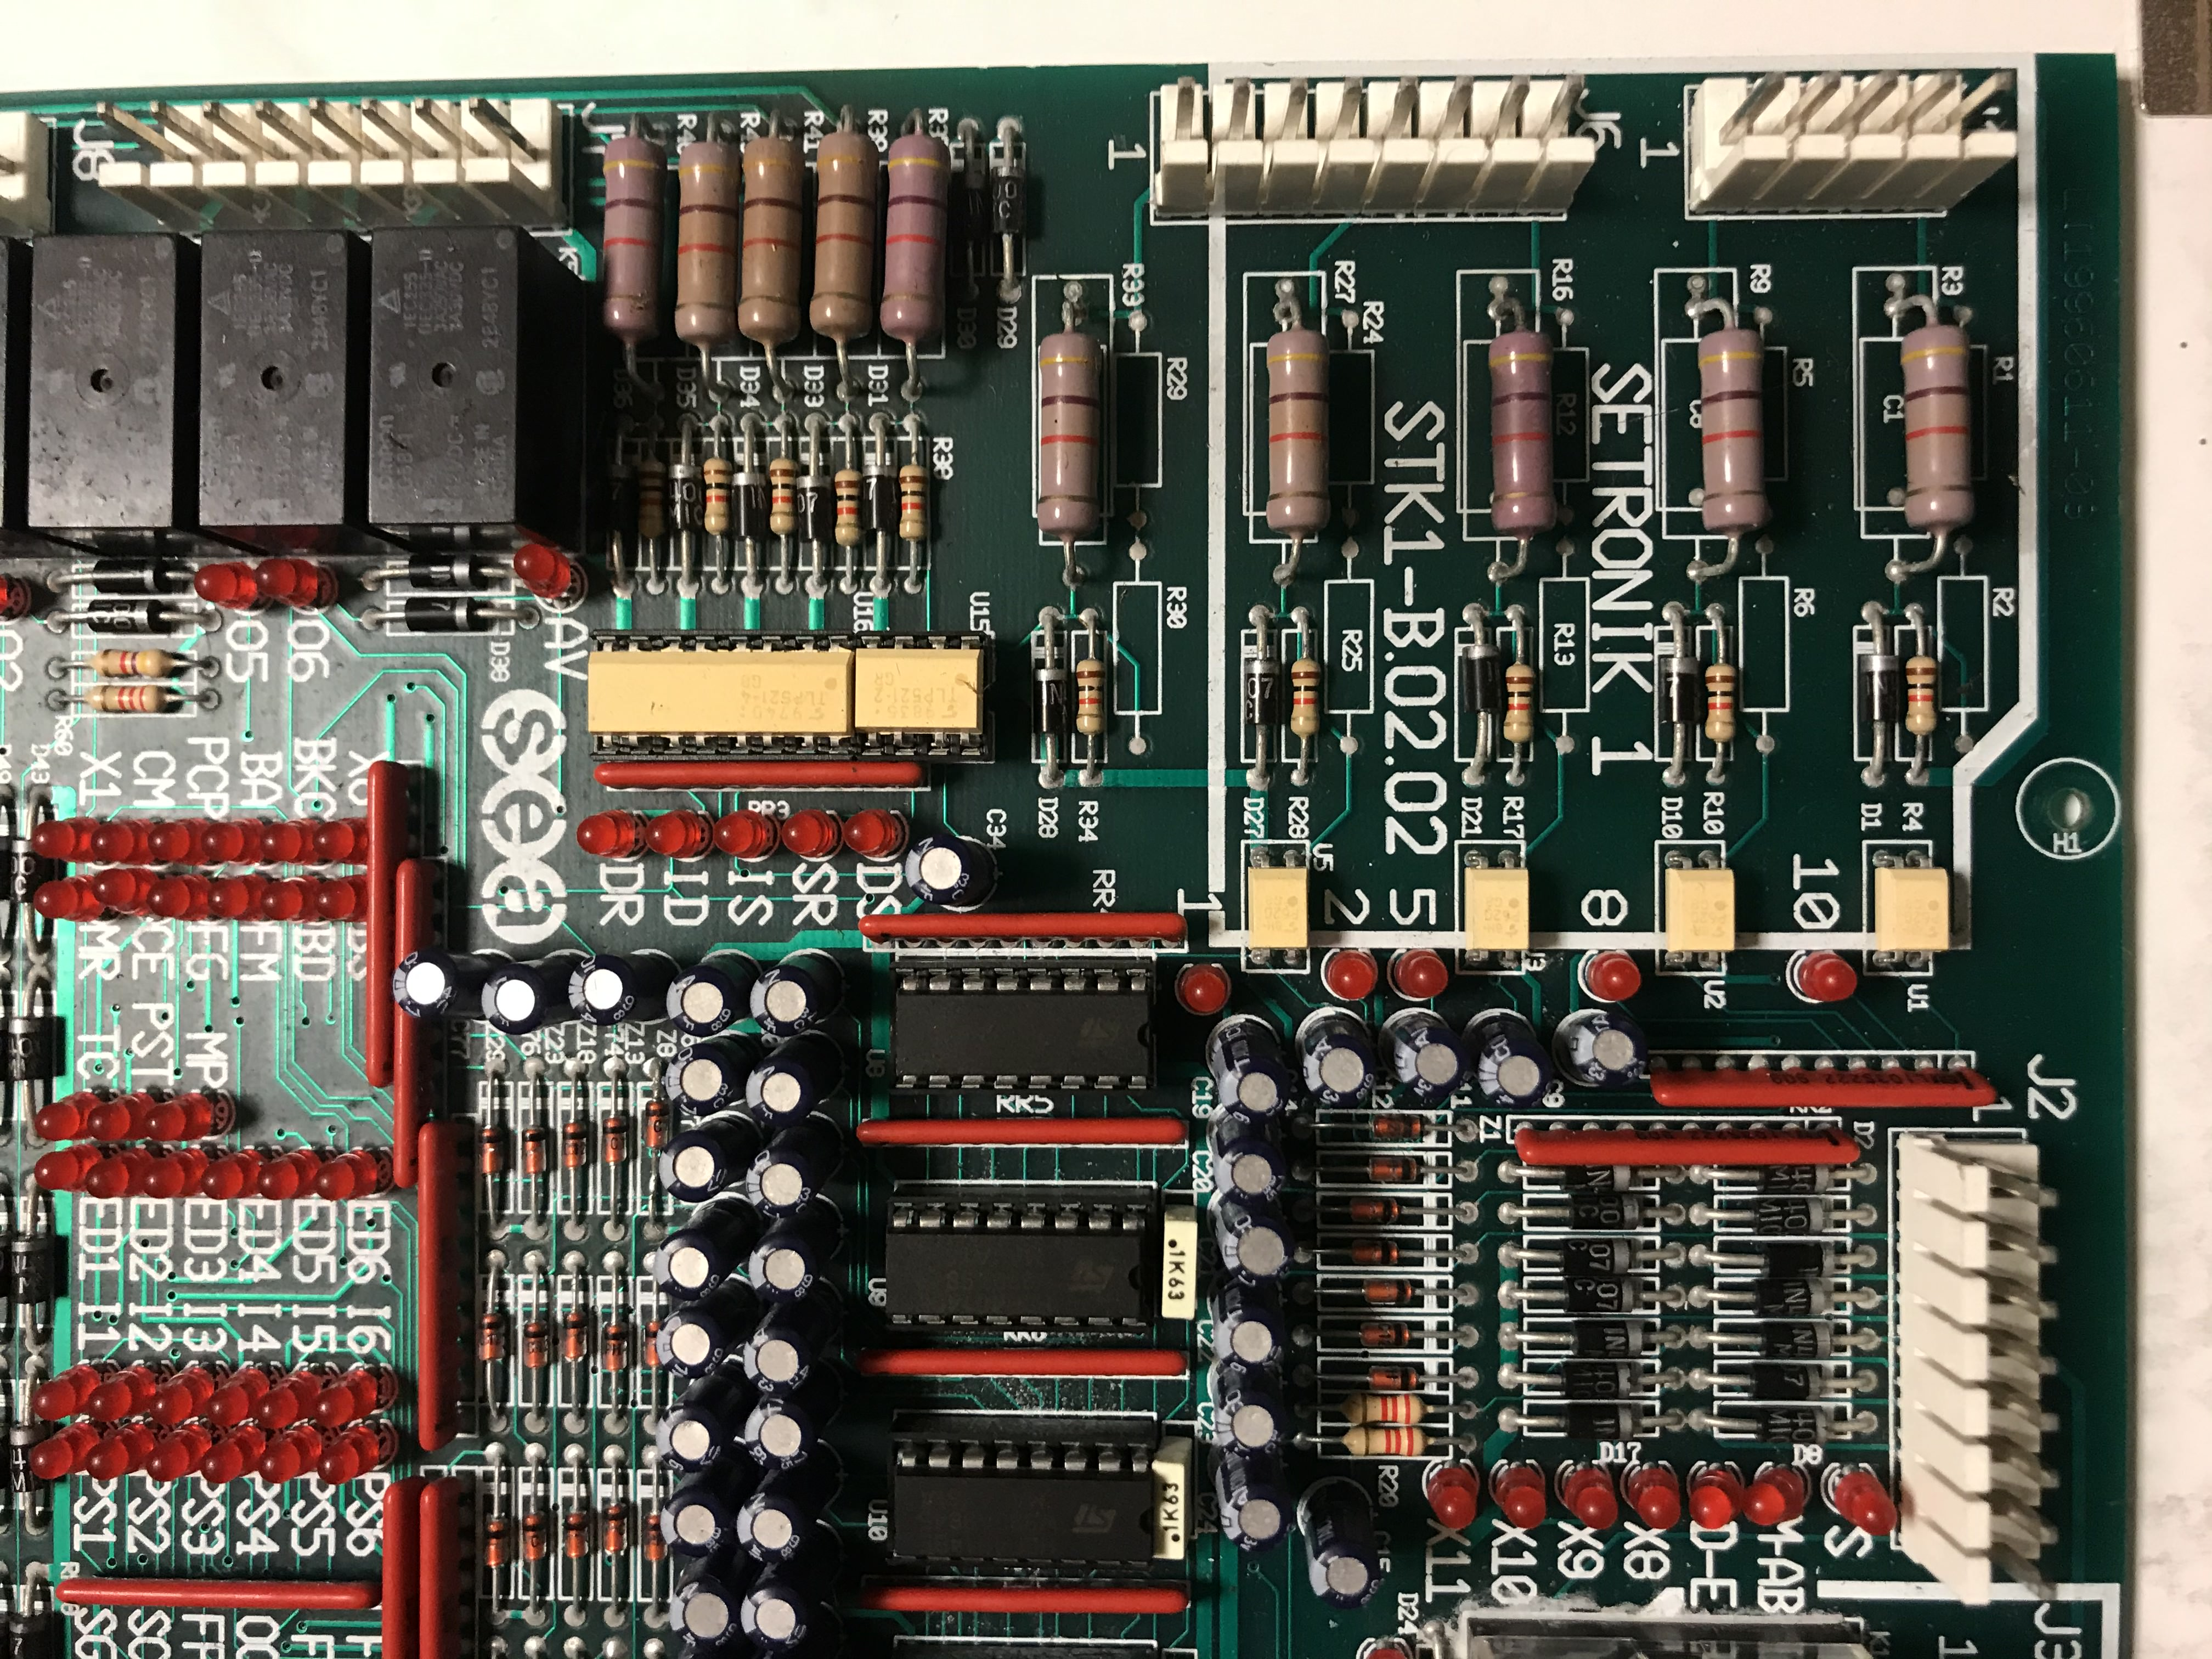Capacitor: (738, 1511, 848, 1657), (732, 1434, 841, 1570), (653, 1352, 759, 1478), (733, 1358, 843, 1478), (650, 1192, 761, 1302), (1200, 1427, 1292, 1560), (658, 1439, 756, 1560), (653, 1276, 758, 1387), (740, 1279, 836, 1399), (740, 1119, 852, 1220), (665, 1530, 754, 1654), (742, 1199, 843, 1307), (1202, 1019, 1299, 1131), (1200, 1265, 1296, 1378), (1296, 1485, 1383, 1608), (744, 1025, 845, 1129), (1207, 1347, 1291, 1464), (1205, 1108, 1298, 1213), (479, 948, 585, 1039), (657, 1115, 763, 1204), (388, 948, 510, 1025), (745, 950, 845, 1042), (1465, 1009, 1552, 1110), (662, 1026, 752, 1121), (665, 950, 758, 1040), (1379, 1009, 1470, 1101), (1211, 1194, 1298, 1290), (1555, 1004, 1651, 1091), (1299, 1011, 1379, 1112), (568, 951, 676, 1026), (902, 831, 1001, 910)
Diode: (1238, 640, 1287, 737), (1550, 1234, 1653, 1277), (989, 155, 1031, 258), (392, 594, 496, 634), (1552, 1399, 1649, 1441), (78, 598, 185, 636), (394, 552, 495, 592), (1745, 1403, 1838, 1446), (732, 450, 768, 559), (1658, 643, 1700, 739), (1460, 633, 1501, 728), (1552, 1358, 1646, 1399), (1029, 655, 1071, 746), (1557, 1317, 1651, 1358), (1747, 1237, 1841, 1277), (1742, 1195, 1831, 1237), (1738, 1277, 1831, 1317), (1747, 1317, 1838, 1358), (1860, 647, 1900, 737), (954, 159, 991, 256), (794, 460, 833, 551), (1554, 1192, 1644, 1230), (7, 1410, 44, 1504), (672, 450, 705, 552), (1738, 1363, 1829, 1399), (1550, 1277, 1644, 1312), (12, 1230, 51, 1316), (75, 566, 192, 594), (603, 450, 632, 559), (862, 458, 900, 540), (1747, 1164, 1838, 1197), (7, 1011, 44, 1089), (7, 828, 42, 910), (1343, 1112, 1440, 1140), (3, 1603, 49, 1659), (482, 1497, 510, 1588), (519, 1115, 550, 1185), (1350, 1319, 1414, 1352), (1339, 1157, 1426, 1182), (561, 1305, 590, 1377), (1360, 1361, 1426, 1392), (601, 1495, 629, 1567), (1348, 1279, 1420, 1307), (559, 1115, 589, 1182), (599, 1110, 629, 1176), (477, 1305, 505, 1375), (1339, 1239, 1409, 1267), (643, 1098, 672, 1162), (1552, 1164, 1635, 1187), (601, 1312, 627, 1384), (521, 1504, 549, 1570), (639, 1309, 667, 1375), (1341, 1199, 1407, 1227), (523, 1309, 549, 1378), (563, 1502, 589, 1570), (475, 1121, 503, 1182), (643, 1504, 667, 1572)
LED: (1827, 1466, 1902, 1539), (28, 1361, 105, 1422), (510, 542, 582, 606), (139, 1089, 223, 1143), (84, 1363, 155, 1424), (253, 1368, 324, 1429), (254, 1425, 326, 1486), (312, 1425, 383, 1486), (254, 1145, 327, 1204), (24, 1424, 99, 1481), (1743, 1466, 1808, 1532), (199, 1425, 266, 1488), (308, 1368, 378, 1429), (254, 556, 329, 612), (146, 1366, 214, 1427), (85, 1422, 153, 1483), (1791, 946, 1858, 1007), (31, 873, 106, 927), (85, 1091, 160, 1145), (145, 1422, 211, 1483), (312, 1147, 381, 1204), (1562, 1464, 1620, 1534), (1425, 1460, 1480, 1532), (31, 1091, 105, 1145), (197, 1145, 266, 1201), (204, 1370, 273, 1425), (1493, 1462, 1548, 1530), (33, 1143, 105, 1195), (575, 807, 641, 863), (143, 1147, 211, 1201), (1688, 1467, 1743, 1532), (643, 807, 709, 861), (30, 816, 103, 864), (85, 1148, 155, 1199), (779, 807, 840, 864), (1629, 1467, 1684, 1530), (91, 866, 162, 915), (310, 873, 374, 927), (841, 809, 906, 863), (202, 816, 268, 868), (206, 873, 272, 925), (712, 807, 775, 861), (310, 816, 374, 868), (260, 873, 324, 925), (91, 816, 157, 866), (148, 817, 212, 868), (145, 875, 211, 924), (1392, 950, 1451, 1004), (258, 817, 320, 868), (1580, 951, 1642, 1002), (195, 559, 258, 608), (1174, 962, 1230, 1014), (1325, 951, 1378, 1000)
Resistor: (1883, 314, 1986, 549), (1482, 321, 1568, 556), (1026, 322, 1115, 547), (803, 119, 883, 366), (874, 131, 953, 364), (1689, 322, 1770, 551), (594, 120, 671, 357), (1258, 322, 1336, 551), (735, 127, 806, 369), (672, 131, 742, 361), (1902, 638, 1940, 748), (73, 647, 193, 681), (1327, 1424, 1433, 1460), (1071, 645, 1109, 746), (1287, 641, 1324, 746), (1703, 655, 1742, 751), (1503, 650, 1536, 751), (833, 457, 862, 566), (1334, 1392, 1432, 1425), (75, 685, 181, 714), (770, 439, 798, 551), (702, 450, 733, 547), (637, 450, 667, 552), (899, 455, 928, 558)
